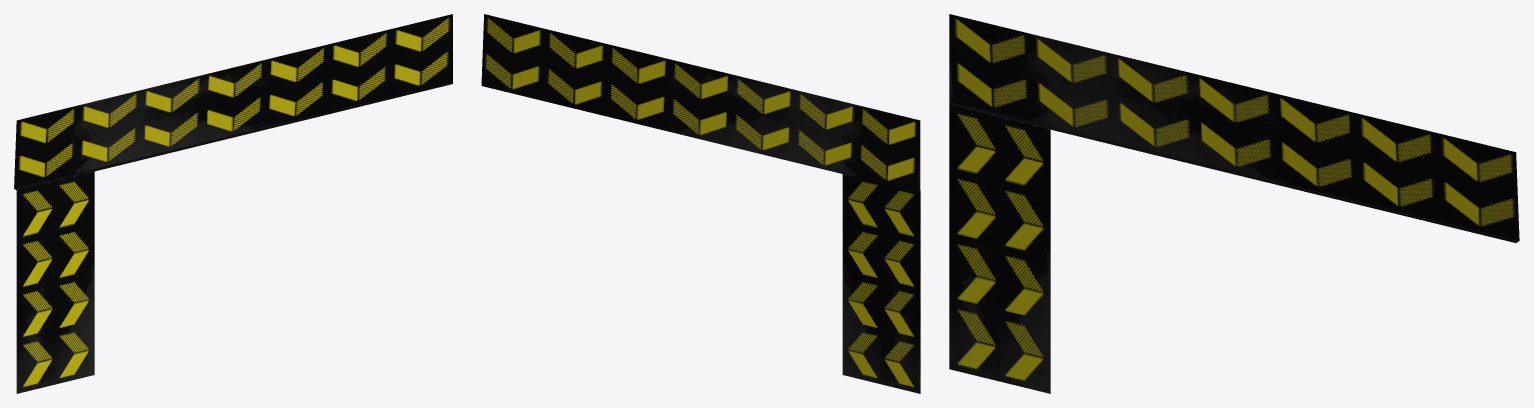
The model's file is Arrow1.fbx.
The picture shows the model from 3 angles, left to right: view 1: azimuth 30°, elevation 25°; view 2: azimuth 150°, elevation 25°; view 3: azimuth 330°, elevation 25°; orthographic projection. The views are drawn at different scales.
Visible parts, largest first — view 1: Arrow_Box, Arrow_Box1; view 2: Arrow_Box, Arrow_Box1; view 3: Arrow_Box, Arrow_Box1.
Boxes of the visible parts, x1=… form: Arrow_Box: x1=14, y1=14, x2=452, y2=190; Arrow_Box1: x1=16, y1=171, x2=94, y2=393; Arrow_Box: x1=481, y1=14, x2=920, y2=192; Arrow_Box1: x1=842, y1=174, x2=920, y2=393; Arrow_Box: x1=949, y1=14, x2=1519, y2=242; Arrow_Box1: x1=949, y1=105, x2=1050, y2=393.
Size of the model in its own units: 5.31 by 3.18 by 0.056.
